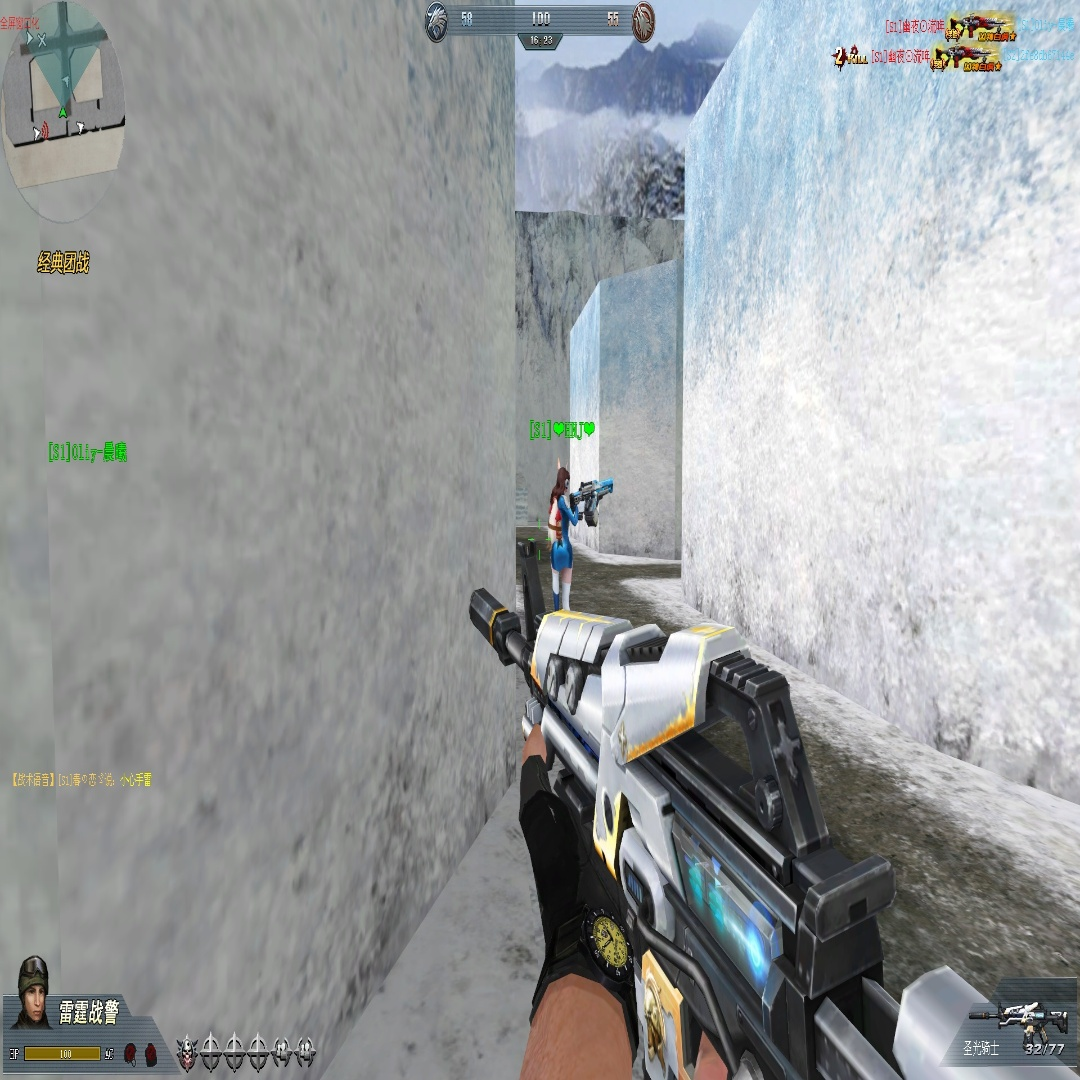ct: (547, 464, 580, 614)
